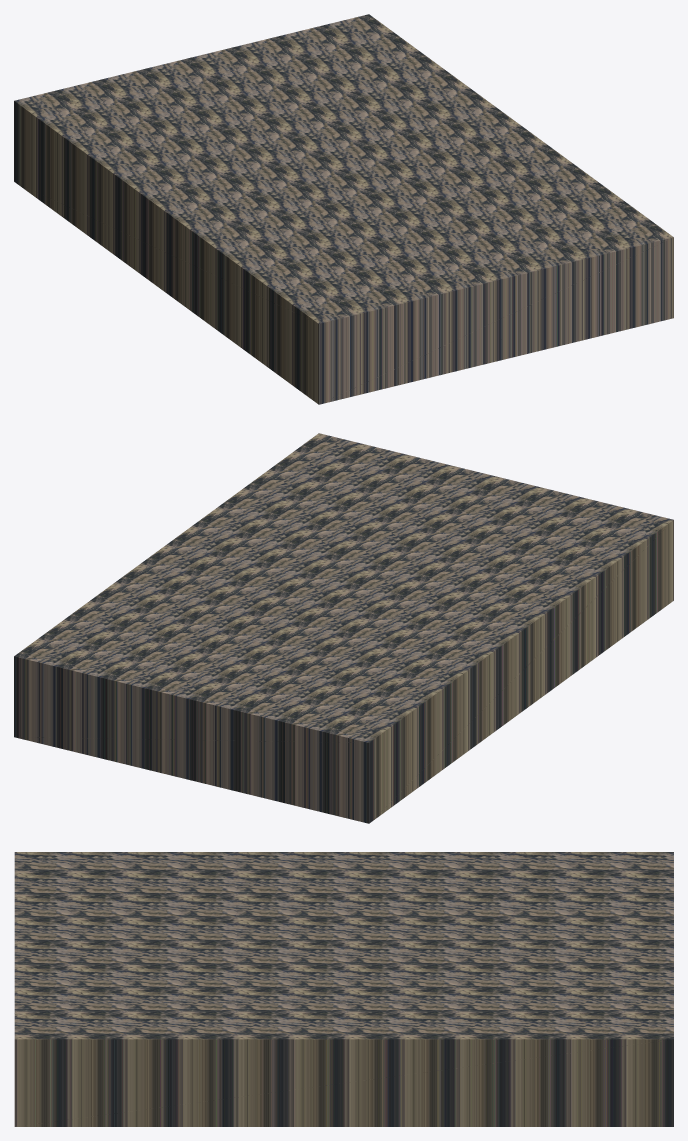
The model's file is AR_Mine_Optimized.glb.
The picture shows the model from 3 angles, top to bottom: view 1: azimuth 30°, elevation 25°; view 2: azimuth 150°, elevation 25°; view 3: azimuth 270°, elevation 25°; orthographic projection. The views are drawn at different scales.
Visible parts, largest first — view 1: Subterranean_Rock_Cavern; view 2: Subterranean_Rock_Cavern; view 3: Subterranean_Rock_Cavern.
Boxes of the visible parts, x1=… form: Subterranean_Rock_Cavern: x1=14, y1=14, x2=673, y2=404; Subterranean_Rock_Cavern: x1=14, y1=433, x2=673, y2=823; Subterranean_Rock_Cavern: x1=14, y1=852, x2=673, y2=1126.
Bounding box in the file's own units: 40 × 9.37 × 59.56.
10 materials, 5 textured.
